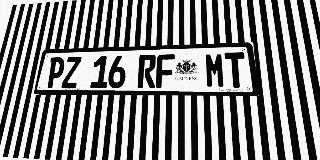1: (90, 56, 110, 88)
6: (107, 55, 127, 88)
F: (156, 54, 174, 88)
M: (205, 53, 226, 88)
P: (45, 57, 66, 88)
R: (137, 54, 156, 88)
T: (224, 52, 247, 88)
Z: (61, 57, 81, 88)
